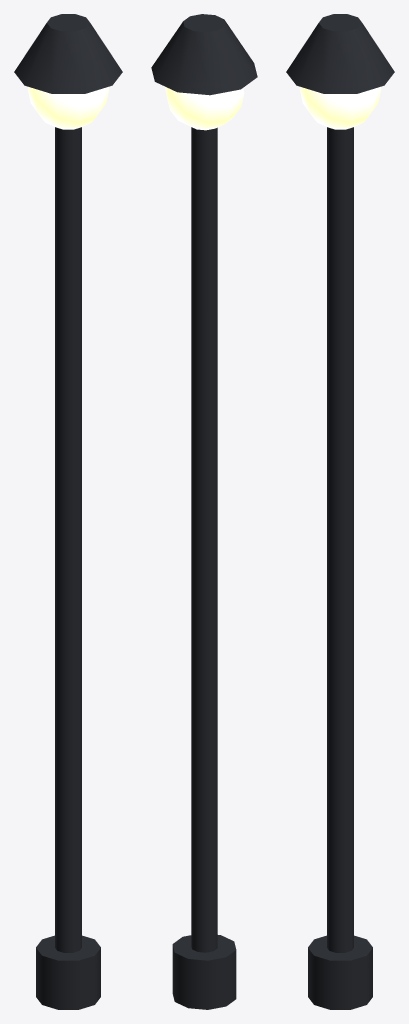
The model's file is street_lamp.glb.
3 renders of one model, left to right at view 1: azimuth 90°, elevation 25°; view 2: azimuth 150°, elevation 25°; view 3: azimuth 270°, elevation 25°, orthographic.
Parts seen in each view (by area): view 1: street_lamp; view 2: street_lamp; view 3: street_lamp.
Boxes of the visible parts, left/top/right/bottom form: street_lamp: left=14, top=14, right=122, bottom=1009; street_lamp: left=151, top=14, right=257, bottom=1009; street_lamp: left=286, top=14, right=394, bottom=1009.
Bounding box in the file's own units: 0.3804 × 3.95 × 0.4.
